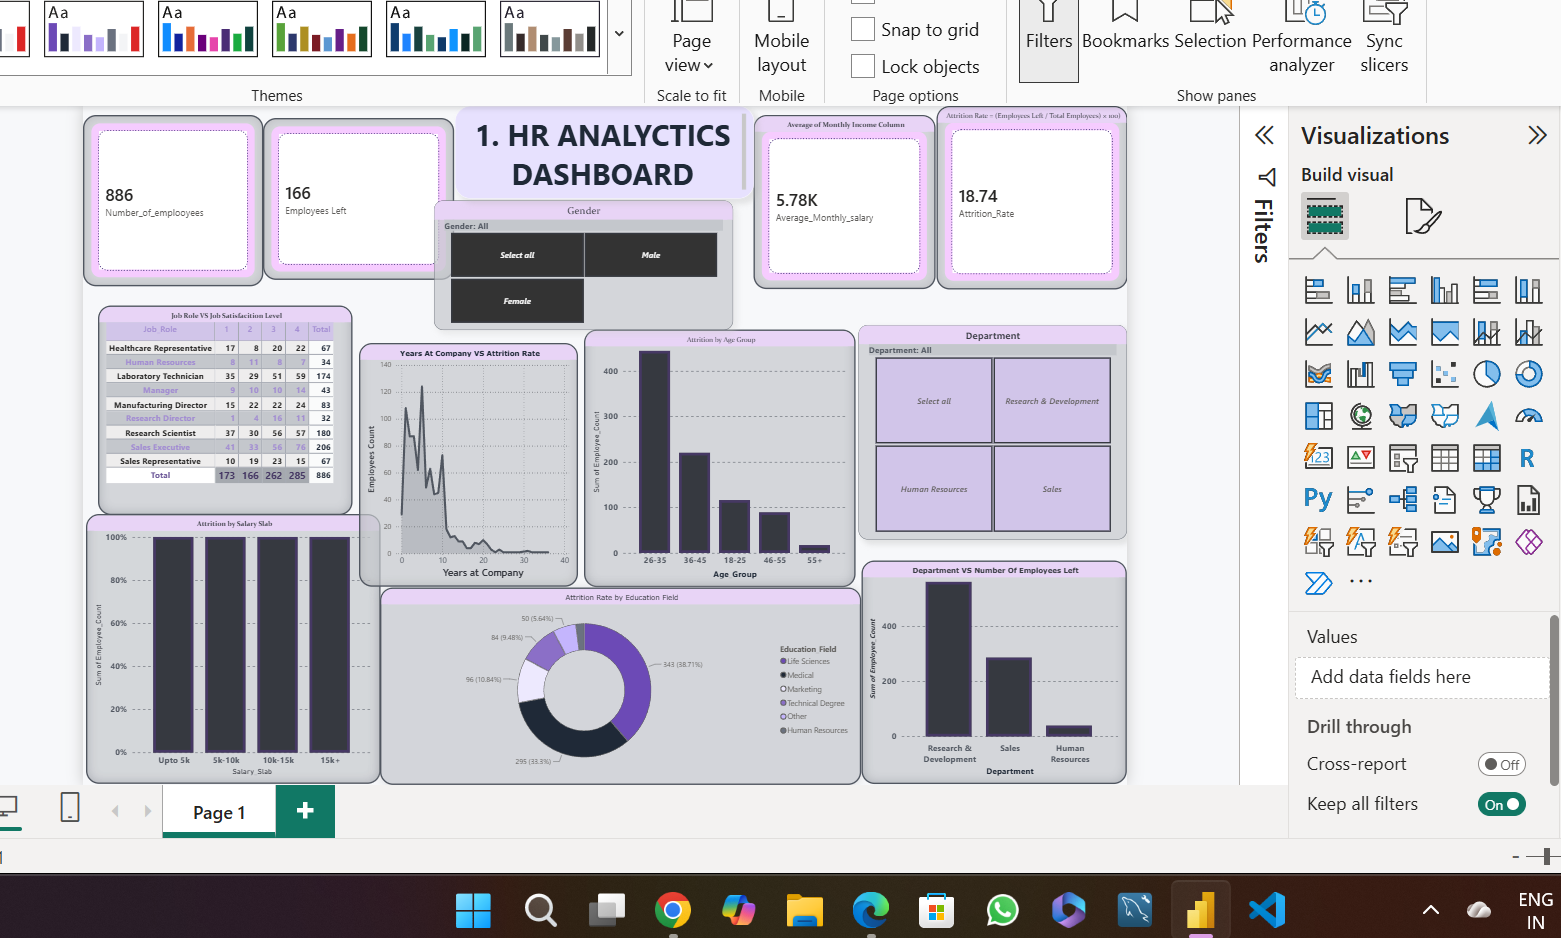

The page's visual inventory and layout, read from the dashboard file:
{"tool":"powerbi","page":{"name":"Page 1","canvas":[2000,1300],"ordinal":0},"visuals":[{"type":"cardVisual","title":"Count Of Employees Numbers","fields":{"Data":["HR_Analytics.Number_of_emplooyees"]},"box":[0,17.2,345.5,327.8],"z":0},{"type":"cardVisual","fields":{"Data":["HR_Analytics.Employees Left"]},"box":[345.5,23.6,366.1,310],"z":1000},{"type":"cardVisual","title":"Average of Monthly Income Column","fields":{"Data":["HR_Analytics.Average_Monthly_salary"]},"box":[1283.8,23,348.4,333.7],"z":2000},{"type":"cardVisual","title":"Attrition Rate = (Employees Left / Total Employees) × 100)","fields":{"Data":["HR_Analytics.Attrition_Rate"]},"box":[1632.9,0,366.1,351.4],"z":3000},{"type":"pivotTable","title":"Job Role VS Job Satisfacition Level","fields":{"Rows":["HR_Analytics.Job_Role"],"Columns":["HR_Analytics.Job_Satisfaction"],"Values":["Sum(HR_Analytics.Employee_Count)"]},"box":[29.5,380.9,487.2,401.6],"z":4000},{"type":"clusteredColumnChart","title":"Attrition by Age Group","fields":{"Category":["HR_Analytics.Age_Group"],"Y":["Sum(HR_Analytics.Employee_Count)"]},"box":[959.7,428.2,519.7,493.1],"z":5000},{"type":"hundredPercentStackedColumnChart","title":"Attrition by Salary Slab","fields":{"Category":["HR_Analytics.Salary_Slab"],"Y":["Sum(HR_Analytics.Employee_Count)"]},"box":[5.9,782.5,564,516.7],"z":6000},{"type":"slicer","title":"Department","fields":{"Values":["HR_Analytics.Department"]},"box":[1485.2,419.3,513.8,410.4],"z":7000},{"type":"slicer","title":"Gender","fields":{"Values":["HR_Analytics.Gender"]},"box":[673.2,180.1,572.8,248],"z":8000},{"type":"donutChart","title":" Attrition Rate by Education Field","fields":{"Y":["Sum(HR_Analytics.Employee_Count)"],"Category":["HR_Analytics.Education_Field"]},"box":[569.9,921.3,921.3,378],"z":9000},{"type":"lineChart","title":"Years At Company VS Attrition Rate","fields":{"Category":["HR_Analytics.Years_At_Company"],"Y":["Sum(HR_Analytics.Employee_Count)"]},"box":[528.5,454.7,419.3,466.5],"z":10000},{"type":"columnChart","title":"Department VS Number Of Employees Left","fields":{"Category":["HR_Analytics.Department"],"Y":["Sum(HR_Analytics.Employee_Count)"]},"box":[1491.2,871.1,507.9,428.2],"z":11000},{"type":"textbox","title":"HR ANALYTICS DASHBOARD","box":[711.6,0,572.8,177.2],"z":12000}]}

Visuals, with their boxes on the page's 2000x1300 design canvas (x1, y1, x2, y2). These are canvas units, not pixel positions in the 1561x938 screenshot, which may show the page scaled, cropped or inside an application window:
"Count Of Employees Numbers" cardVisual: (x1=0, y1=17, x2=346, y2=345)
cardVisual - HR_Analytics.Employees Left: (x1=346, y1=24, x2=712, y2=334)
"Average of Monthly Income Column" cardVisual: (x1=1284, y1=23, x2=1632, y2=357)
"Attrition Rate = (Employees Left / Total Employees) × 100)" cardVisual: (x1=1633, y1=0, x2=1999, y2=351)
"Job Role VS Job Satisfacition Level" pivotTable: (x1=30, y1=381, x2=517, y2=782)
"Attrition by Age Group" clusteredColumnChart: (x1=960, y1=428, x2=1479, y2=921)
"Attrition by Salary Slab" hundredPercentStackedColumnChart: (x1=6, y1=782, x2=570, y2=1299)
"Department" slicer: (x1=1485, y1=419, x2=1999, y2=830)
"Gender" slicer: (x1=673, y1=180, x2=1246, y2=428)
" Attrition Rate by Education Field" donutChart: (x1=570, y1=921, x2=1491, y2=1299)
"Years At Company VS Attrition Rate" lineChart: (x1=528, y1=455, x2=948, y2=921)
"Department VS Number Of Employees Left" columnChart: (x1=1491, y1=871, x2=1999, y2=1299)
"HR ANALYTICS DASHBOARD" textbox: (x1=712, y1=0, x2=1284, y2=177)
